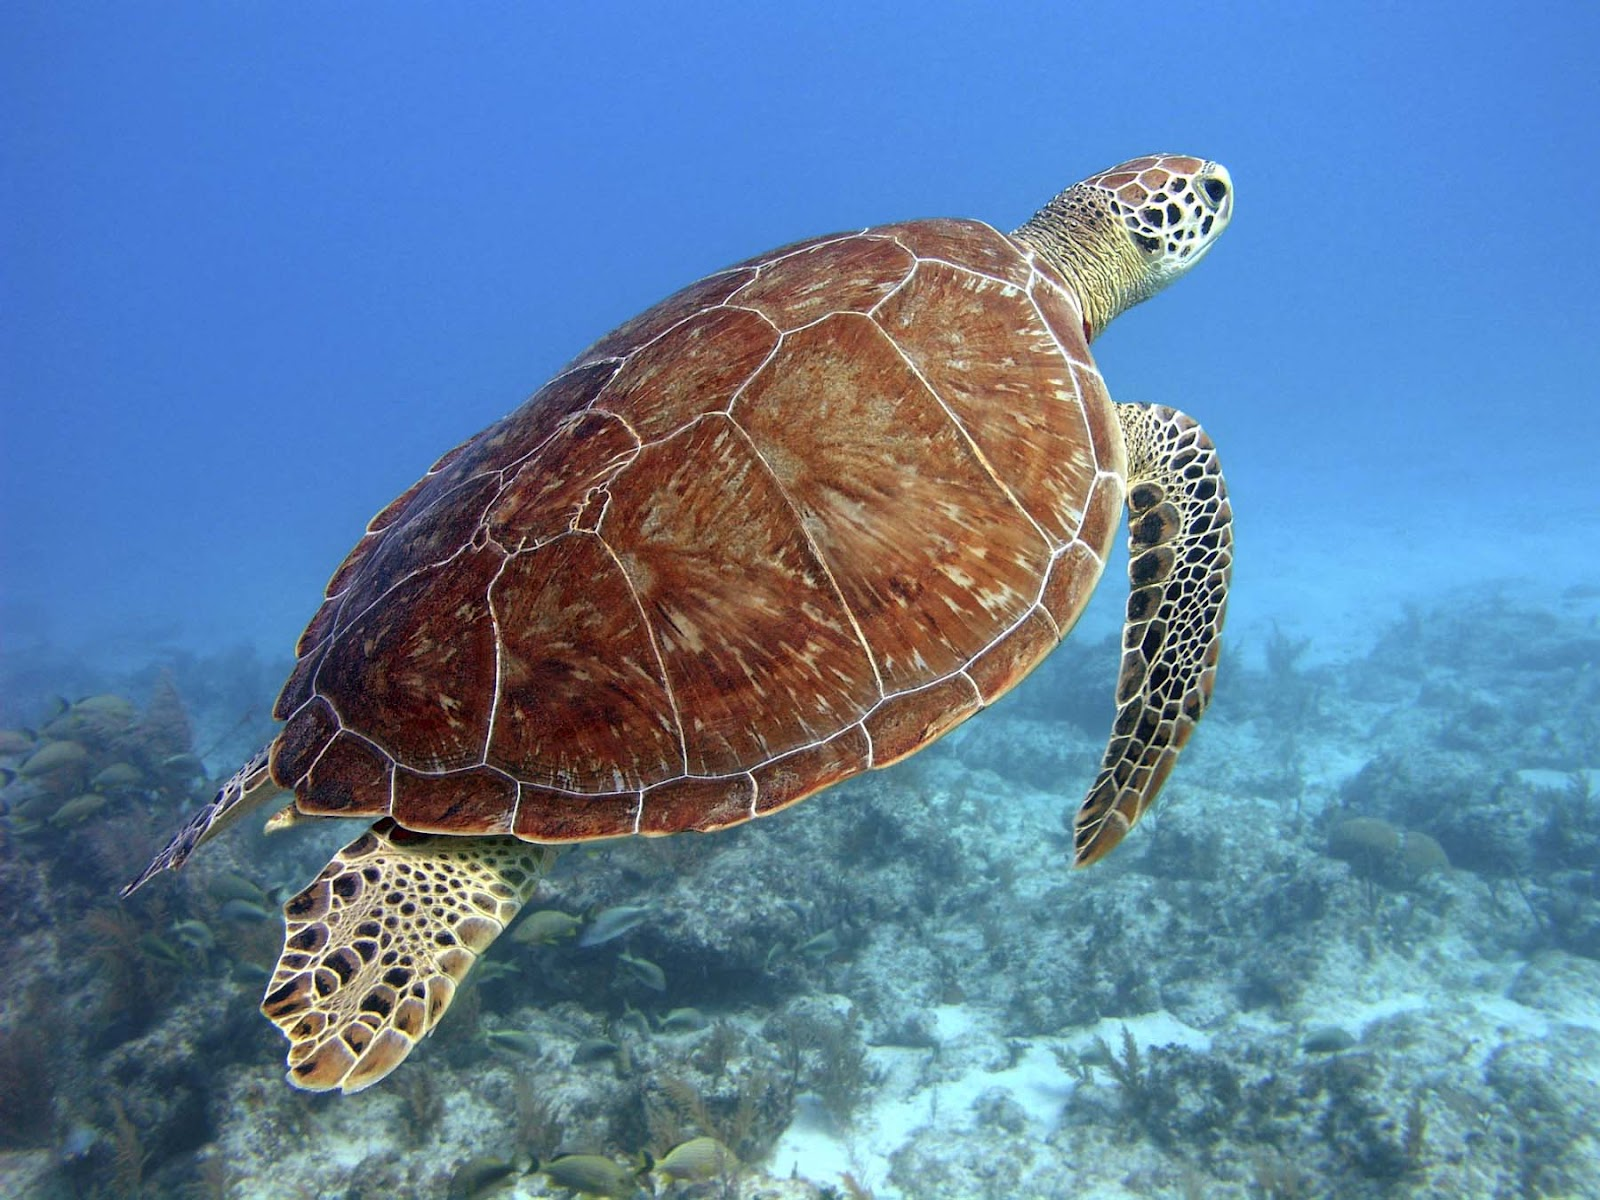eye: (1193, 165, 1233, 212)
mouth: (1170, 224, 1230, 279)
